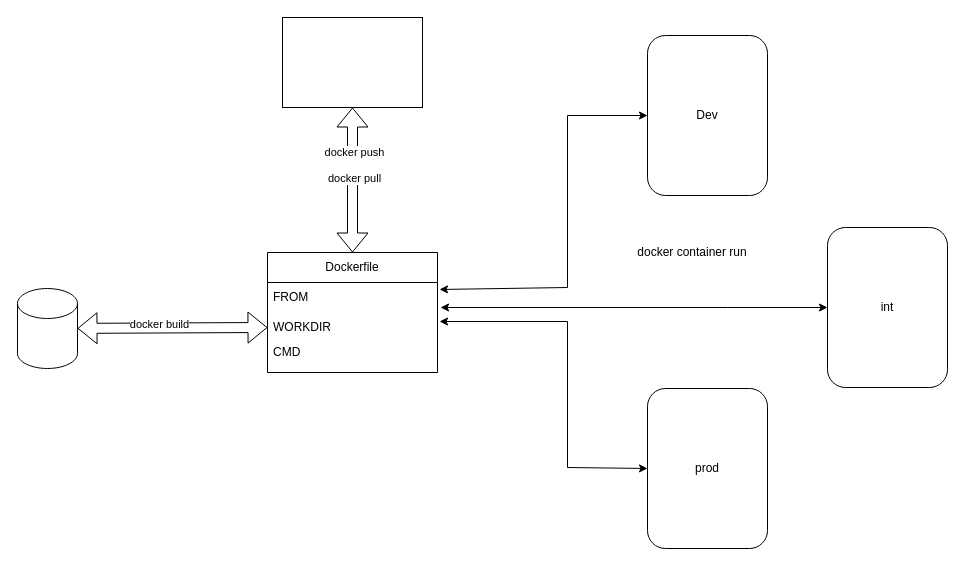
The diagram is 965 pixels wide and 566 high, and some of its shapes have lost their labels. The centre of each missing label's shape, as x and y in pixels:
"Docker image registry" goes at (352,62).
"Image" goes at (47,328).
